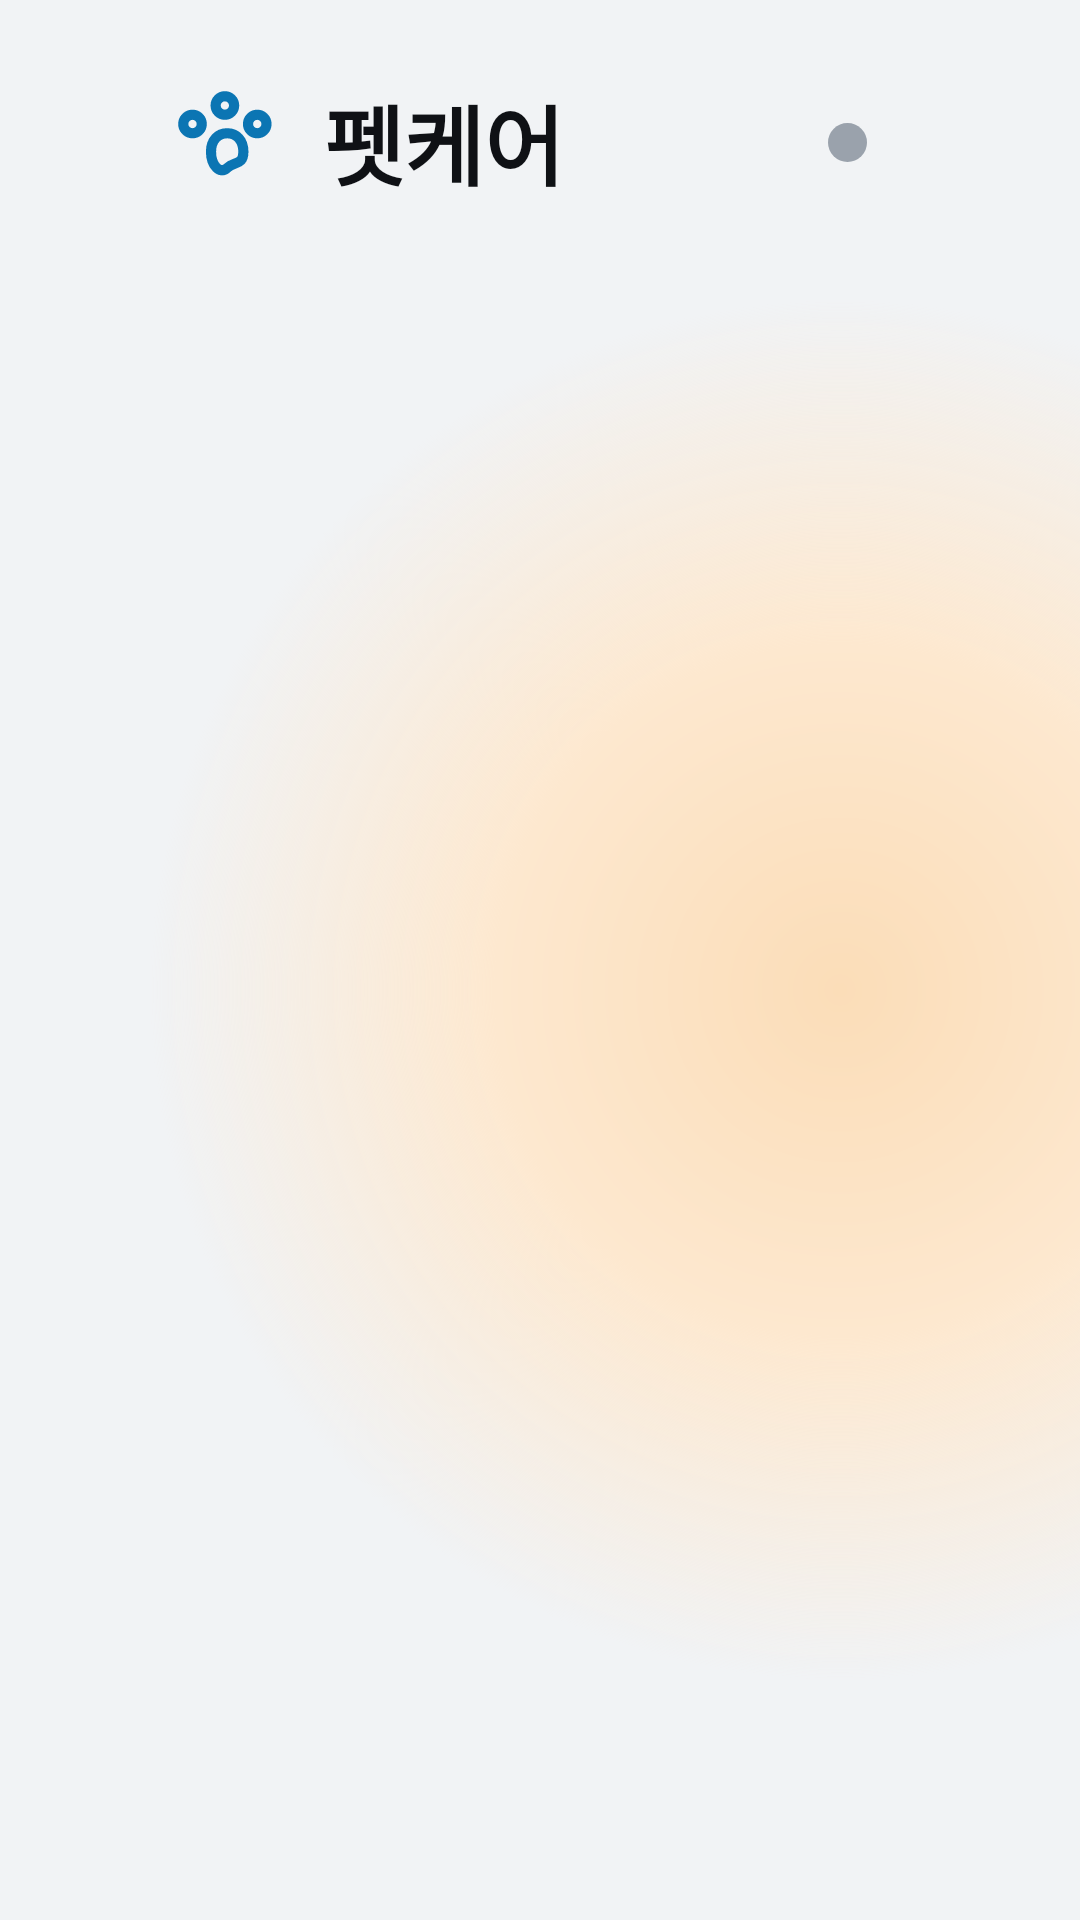

Screen size 1080 × 1920. Icon name, then its box in pixels as (x1, y1, x2, y2):
paw: (178, 91, 272, 176)
